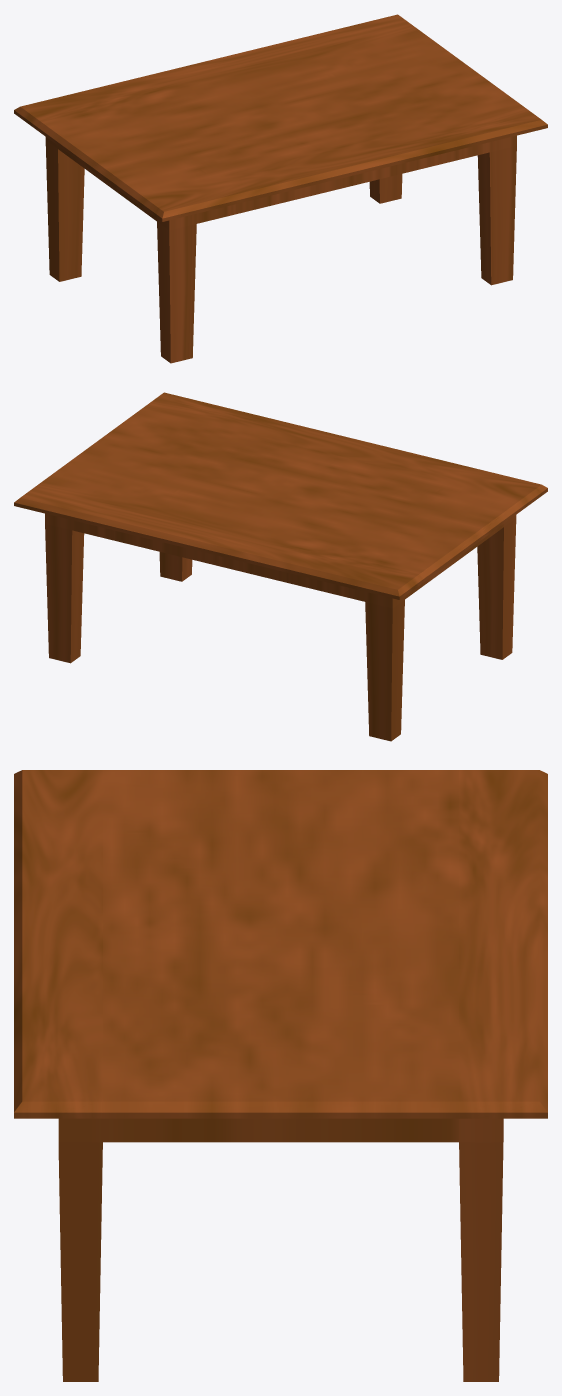
Rendered from Table.fbx.
3 renders of one model, top to bottom at view 1: azimuth 30°, elevation 25°; view 2: azimuth 150°, elevation 25°; view 3: azimuth 270°, elevation 25°, orthographic. The views are drawn at different scales.
Visible parts, largest first — view 1: Table; view 2: Table; view 3: Table.
Boxes of the visible parts, box(x1,y1,x2,y2) form: Table: box(14, 14, 547, 363); Table: box(14, 392, 547, 741); Table: box(14, 770, 547, 1381).
Size of the model in its own units: 300 by 122 by 200.
